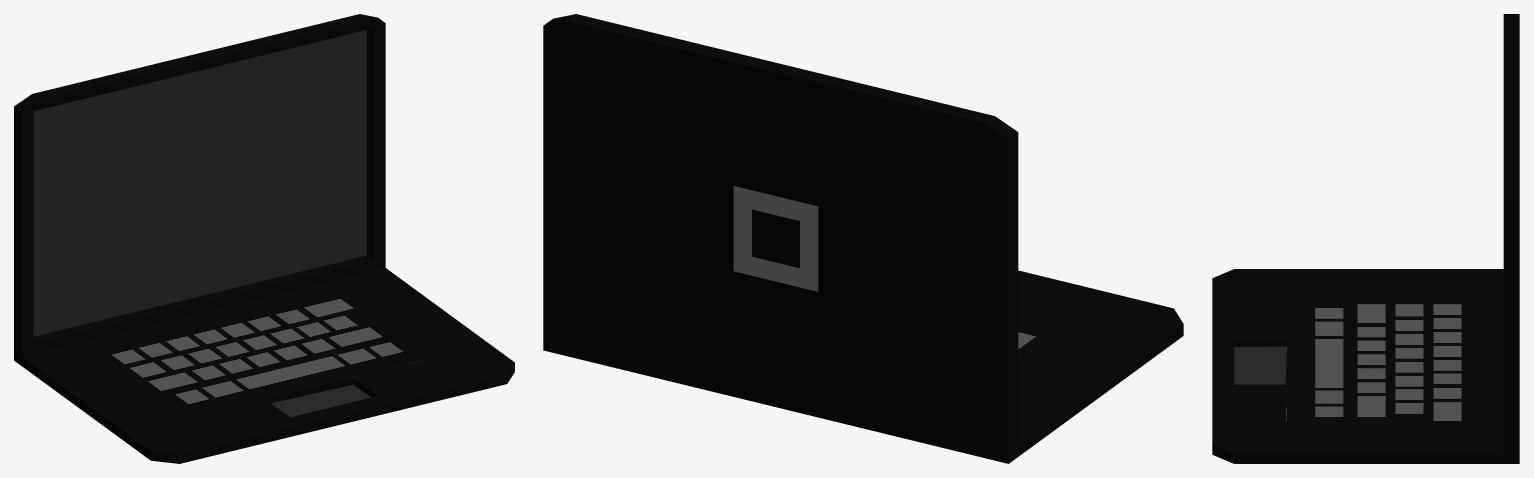
Rendered from pc portable.fbx.
3 views of the same model, side by side, from view 1: azimuth 30°, elevation 25°; view 2: azimuth 150°, elevation 25°; view 3: azimuth 270°, elevation 25° (orthographic). The views are drawn at different scales.
Visible parts, largest first — view 1: pc_portable; view 2: pc_portable; view 3: pc_portable.
Part boxes in pixels (x1=…): pc_portable: x1=14, y1=14, x2=514, y2=463; pc_portable: x1=543, y1=14, x2=1183, y2=463; pc_portable: x1=1212, y1=14, x2=1519, y2=463.
Size of the model in its own units: 0.5061 by 0.3482 by 0.355.
Materials: 5 (1 with a texture image).
